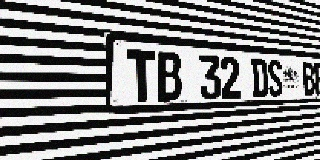2: (220, 56, 241, 99)
3: (199, 54, 221, 100)
B: (156, 51, 182, 101), (302, 62, 316, 95)
D: (251, 58, 269, 98)
R: (314, 63, 320, 95)
S: (267, 59, 283, 97)
T: (127, 49, 156, 103)
